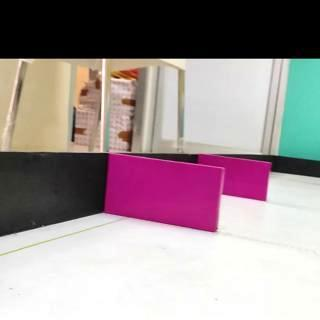xparking: (104, 155, 223, 233), (223, 158, 270, 201)
